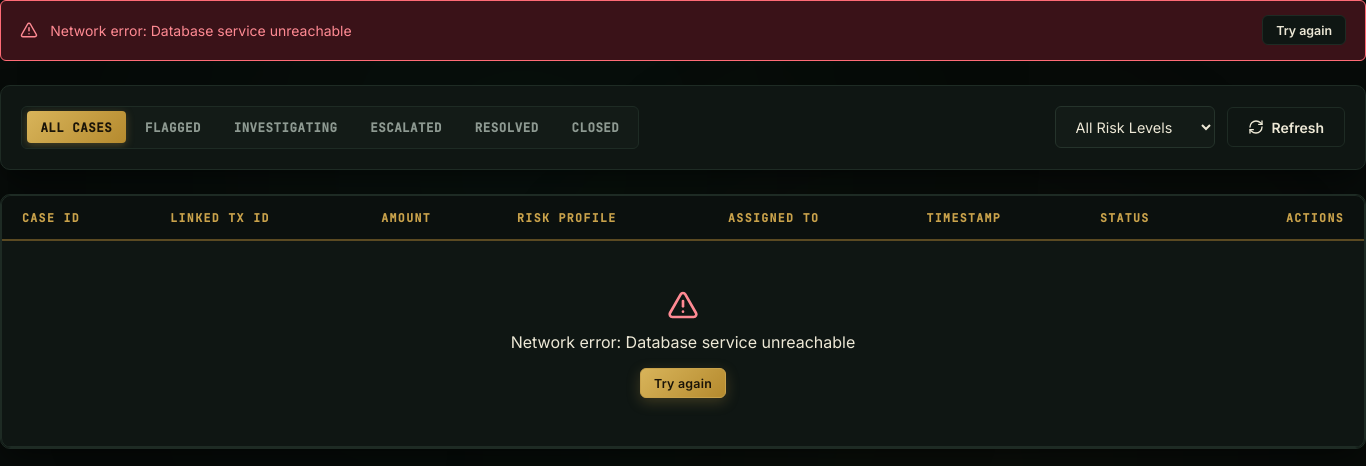
Test case: CasesPage › shows the error message and Try again button when fetch fails and NO sample cases appear
This screenshot has width=1366, height=466.
Click the 1st button "Try again" at (1304, 30), box x1=1262 y1=15 x2=1346 y2=45
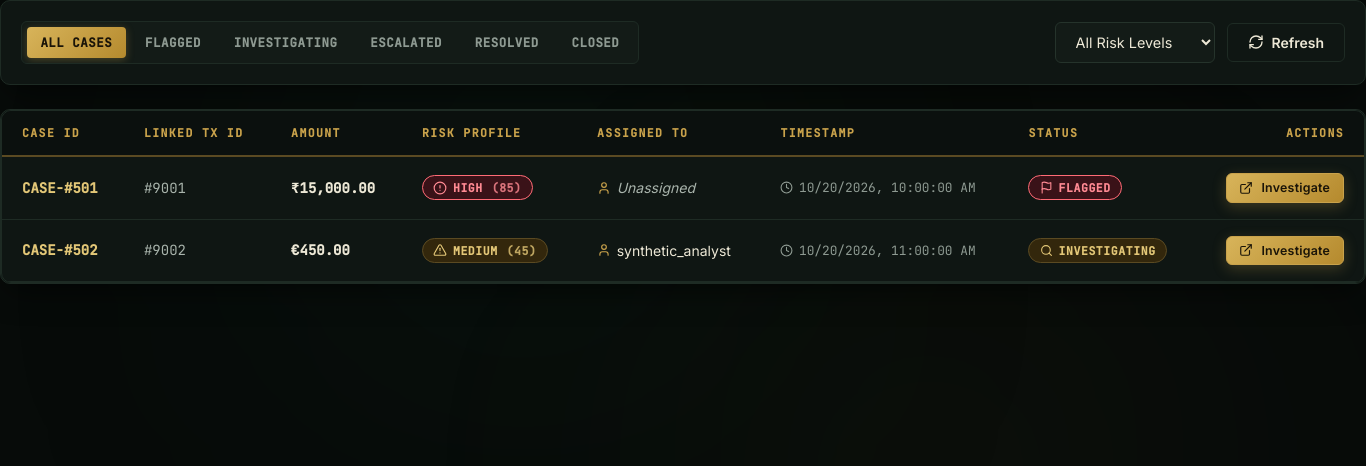
Now the text "CASE-#501" is shown, box x1=2 y1=156 x2=124 y2=219
Now the text "CASE-#502" is shown, box x1=2 y1=219 x2=124 y2=282
